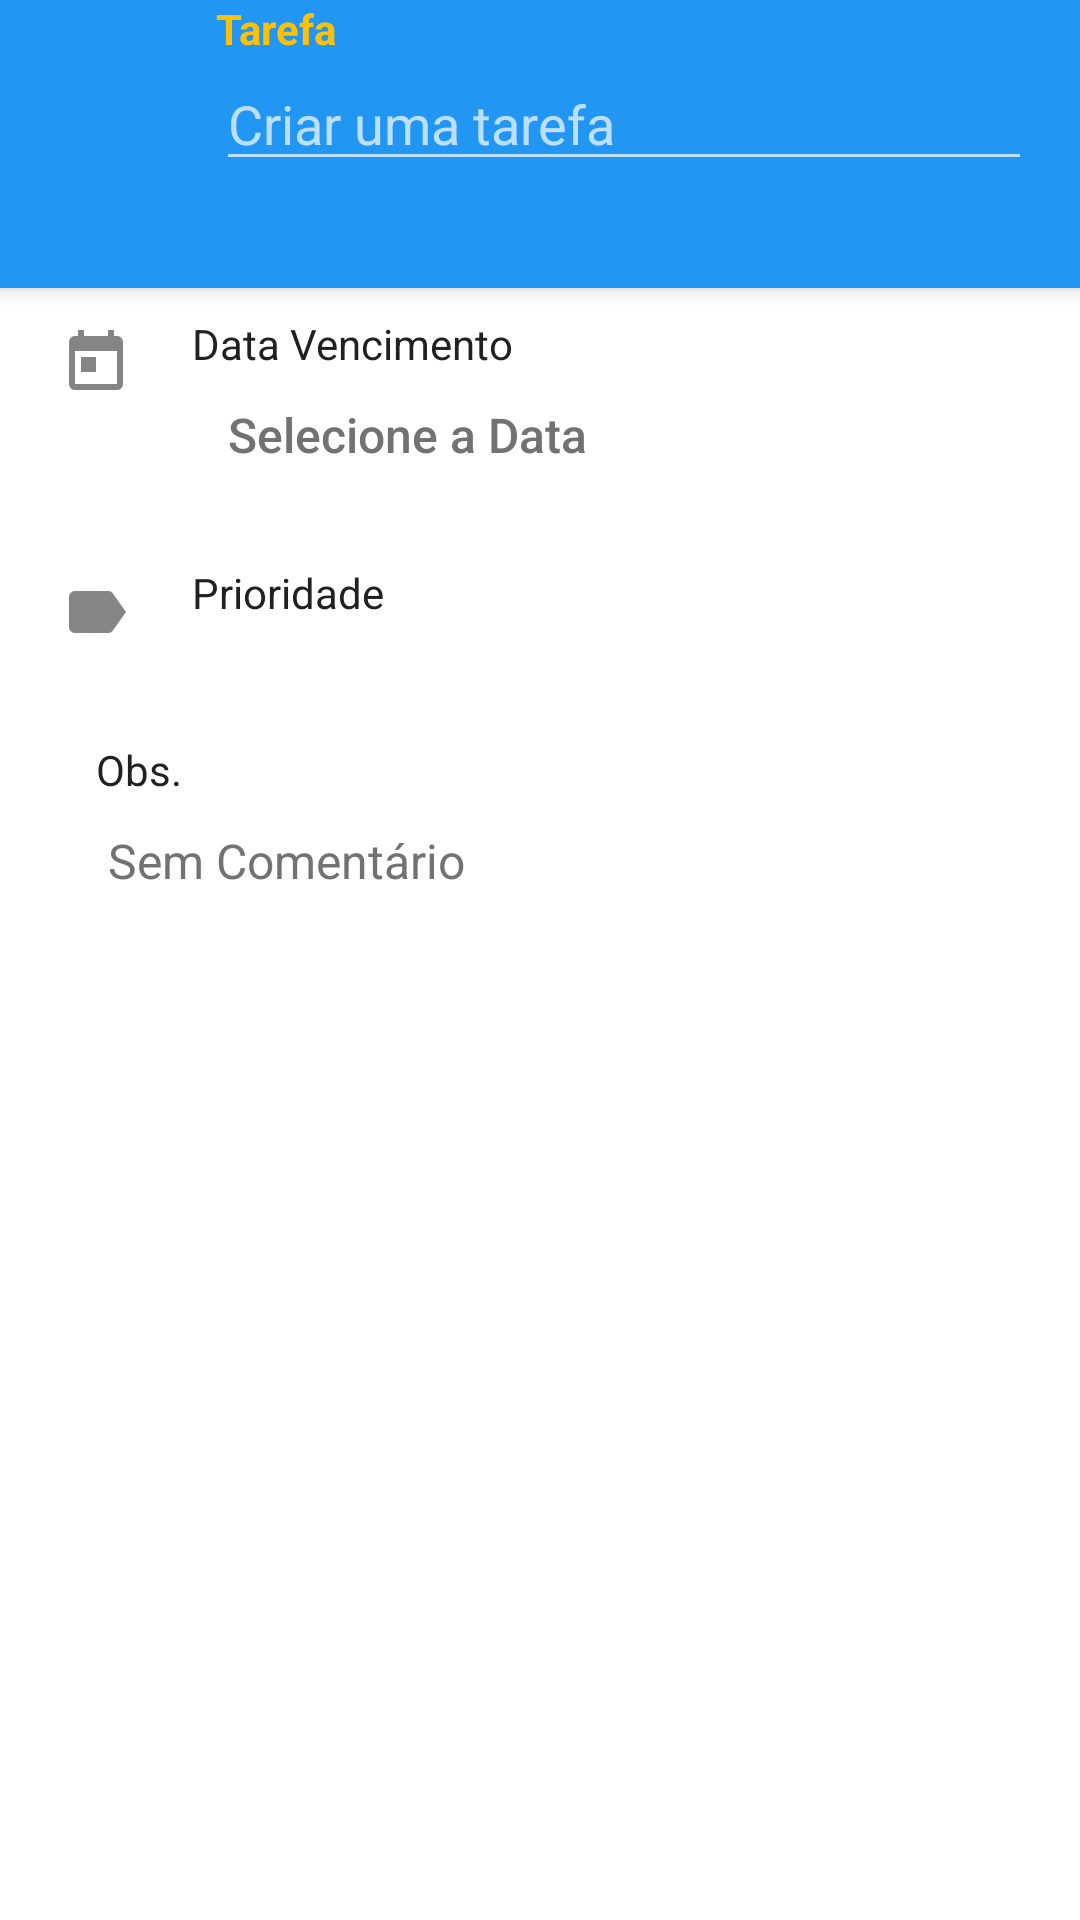

Icon click points for this 1080w x 1920h phone screenshot, format (x=x, y=y):
today: (x=96, y=360)
